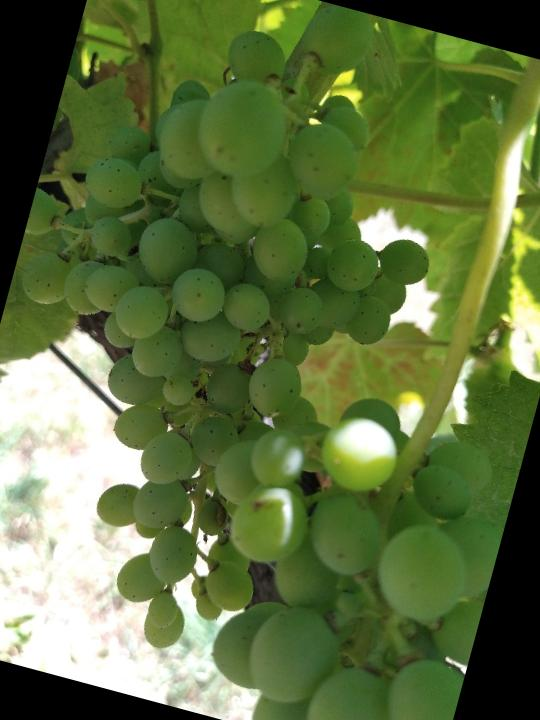grape: (0, 0, 491, 693)
